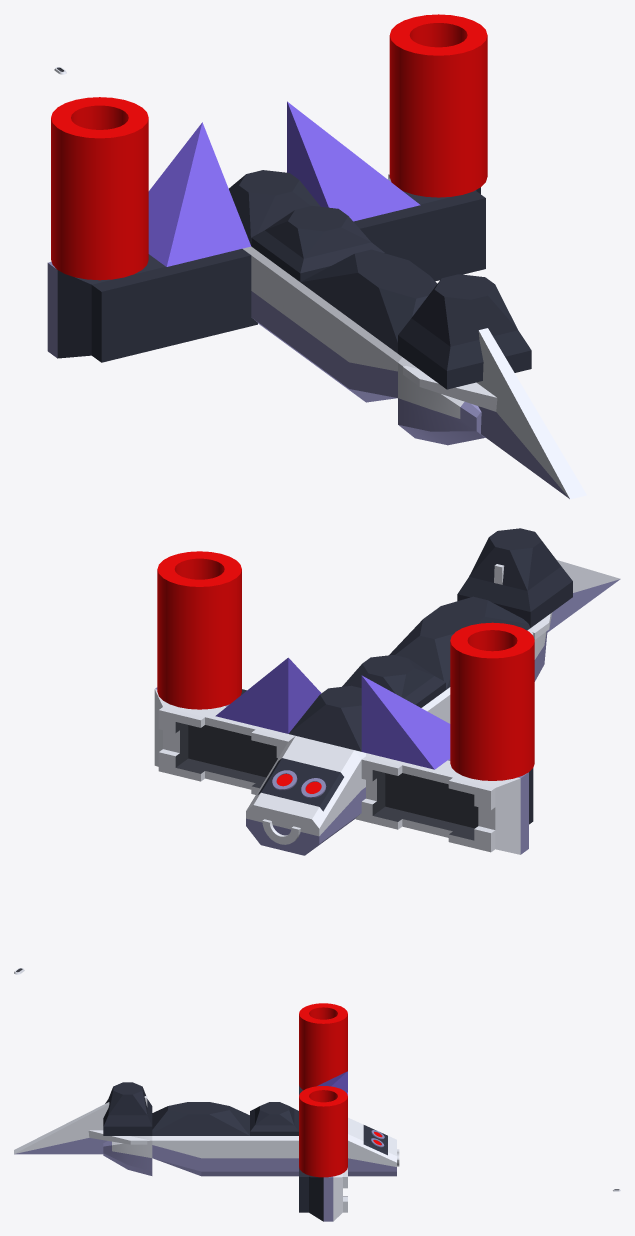
Rendered from LeahNogaNaomiShipCat.fbx.
The picture shows the model from 3 angles, top to bottom: view 1: azimuth 30°, elevation 25°; view 2: azimuth 150°, elevation 25°; view 3: azimuth 270°, elevation 25°; orthographic projection. The views are drawn at different scales.
Visible parts, largest first — view 1: mergedBlocks; view 2: mergedBlocks; view 3: mergedBlocks.
Boxes of the visible parts, x1,y1,x2,y2 form: mergedBlocks: (47, 14, 586, 499); mergedBlocks: (14, 528, 620, 974); mergedBlocks: (14, 1003, 620, 1221).
Size of the model in its own units: 25 by 13 by 62.07.
